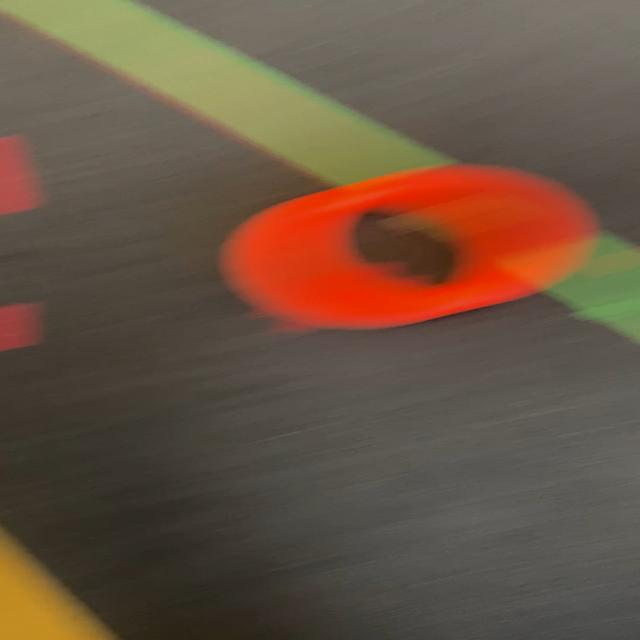notes: (230, 163, 599, 324)
